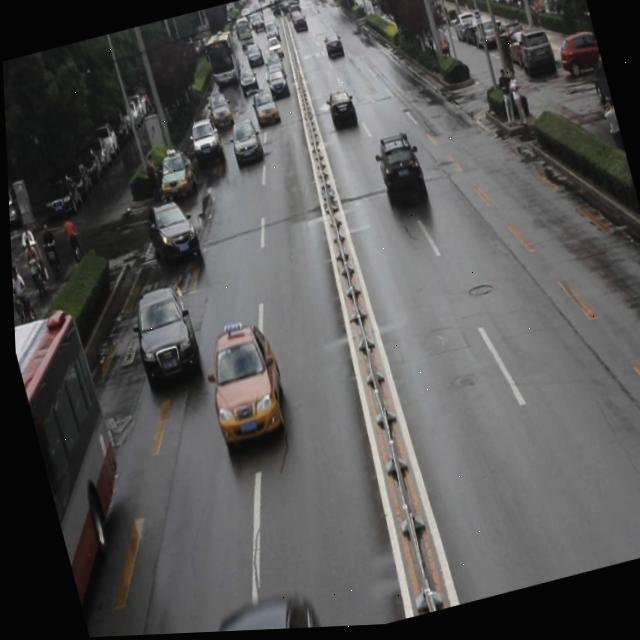car: (191, 315, 292, 454), (123, 282, 202, 392), (139, 196, 203, 276), (368, 130, 427, 214), (152, 144, 198, 203), (184, 115, 225, 170), (225, 118, 264, 168), (323, 90, 358, 134), (249, 89, 279, 129), (203, 95, 233, 133), (263, 71, 290, 104)
van: (11, 304, 147, 614)
